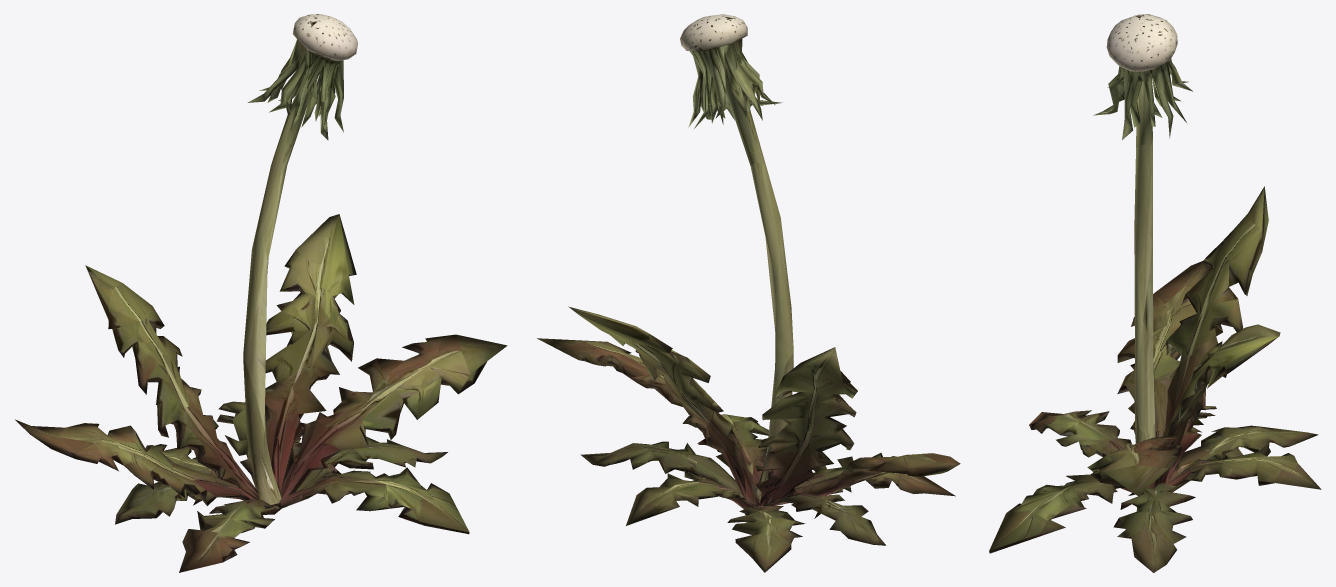
Rendered from karahindiba.glb.
3 renders of one model, left to right at view 1: azimuth 30°, elevation 25°; view 2: azimuth 150°, elevation 25°; view 3: azimuth 270°, elevation 25°, orthographic. The views are drawn at different scales.
Parts seen in each view (by area): view 1: prop; view 2: prop; view 3: prop.
Part boxes in pixels (x1,y1,x2,y2): prop: [15, 14, 507, 572]; prop: [537, 14, 960, 572]; prop: [989, 14, 1321, 572].
Size of the model in its own units: 1.89 by 1.9 by 1.15.
1 material, 1 textured.
